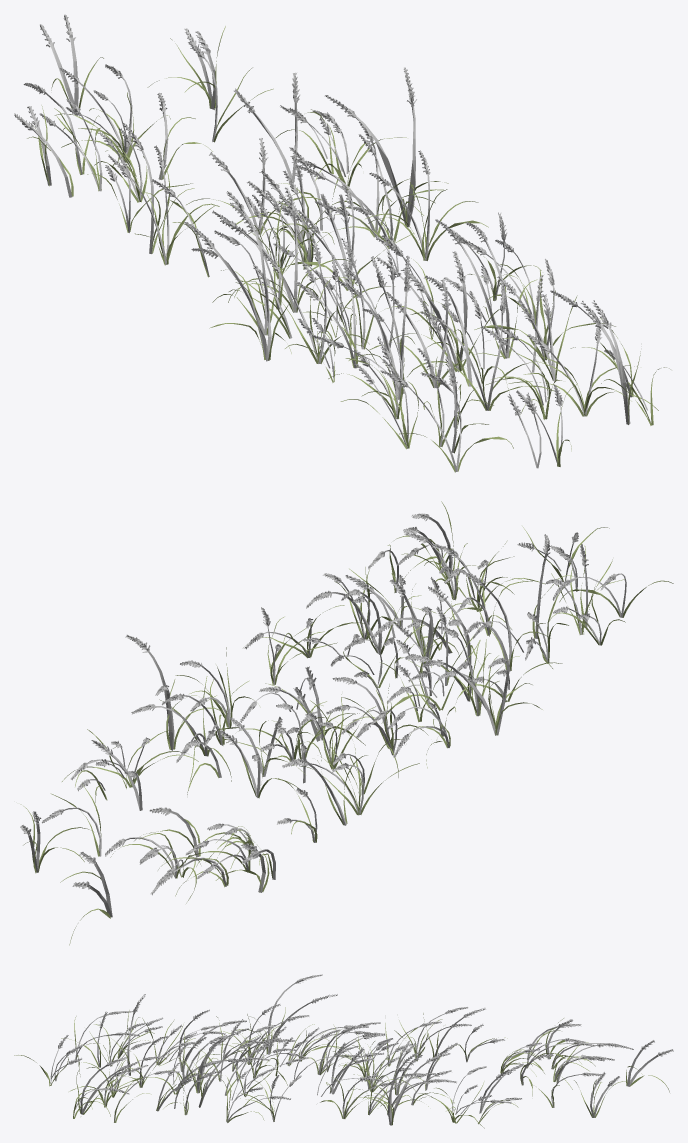
The model's file is FieldGrass.fbx.
3 renders of one model, top to bottom at view 1: azimuth 30°, elevation 25°; view 2: azimuth 150°, elevation 25°; view 3: azimuth 270°, elevation 25°, orthographic. The views are drawn at different scales.
Visible parts, largest first — view 1: fieldGrass1Main, fieldGrass1Leaf, fieldGrass1Flower; view 2: fieldGrass1Main, fieldGrass1Leaf, fieldGrass1Flower; view 3: fieldGrass1Main, fieldGrass1Leaf, fieldGrass1Flower.
Part boxes in pixels (x1,y1,x2,y2): fieldGrass1Main: (14,14,647,471); fieldGrass1Leaf: (27,26,670,472); fieldGrass1Flower: (14,14,615,415); fieldGrass1Main: (22,514,626,917); fieldGrass1Leaf: (20,501,673,945); fieldGrass1Flower: (20,513,616,895); fieldGrass1Main: (50,977,673,1125); fieldGrass1Leaf: (14,1007,669,1128); fieldGrass1Flower: (58,974,673,1103).
Bounding box in the file's own units: 2.88 × 1.15 × 8.02.
